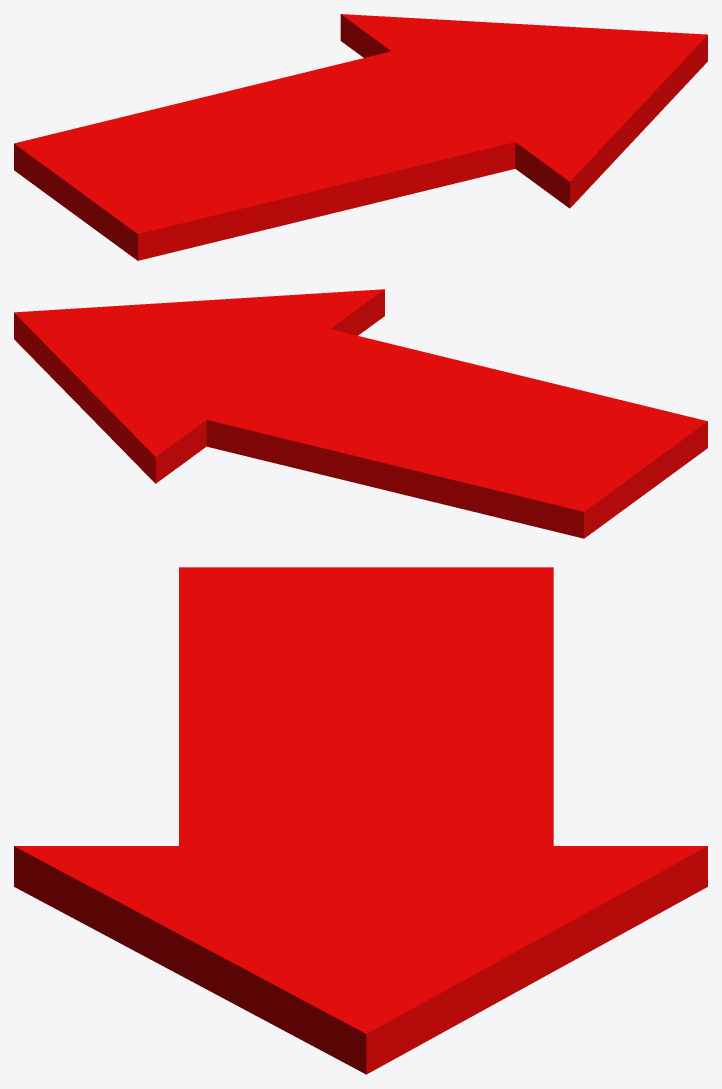
Rendered from arrowNew 2.fbx.
3 views of the same model, one above another, from view 1: azimuth 30°, elevation 25°; view 2: azimuth 150°, elevation 25°; view 3: azimuth 270°, elevation 25° (orthographic). The views are drawn at different scales.
Visible parts, largest first — view 1: Arrow1; view 2: Arrow1; view 3: Arrow1.
Boxes of the visible parts, x1,y1,x2,y2 form: Arrow1: (14,14,707,260); Arrow1: (14,289,707,538); Arrow1: (14,567,707,1074).
Size of the model in its own units: 5.37 by 0.2178 by 3.37.
